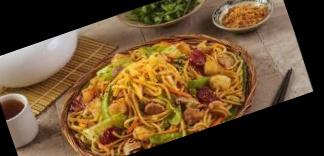pancit bihon: (72, 39, 242, 154)
